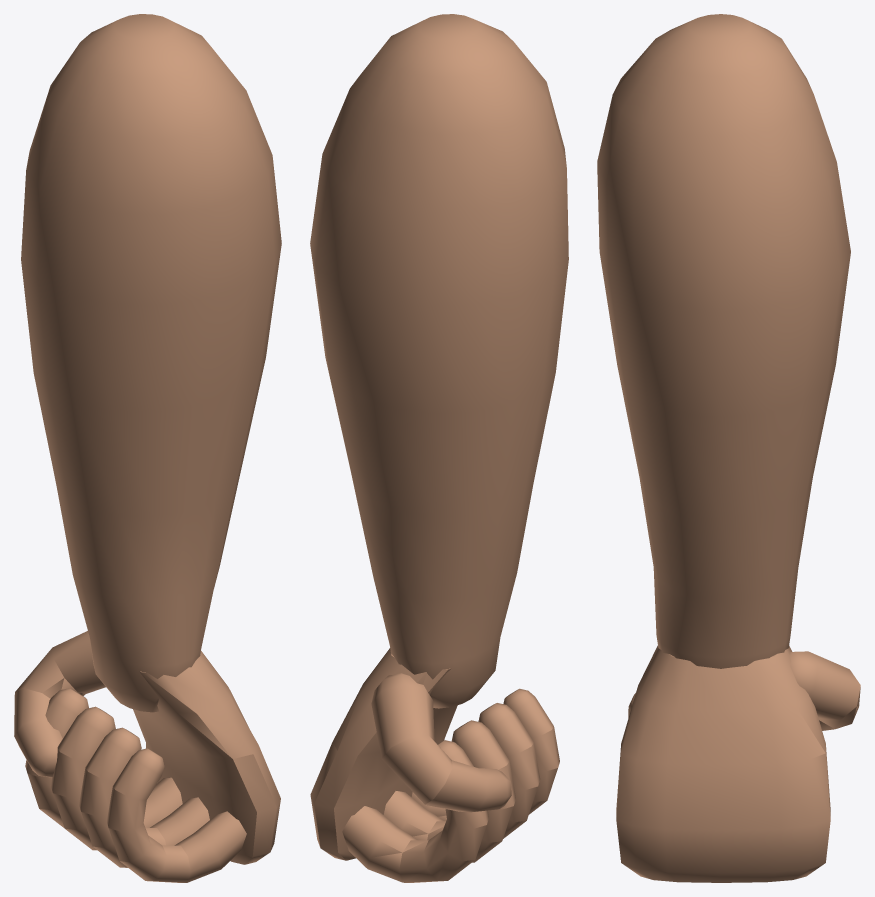
File: forearm_r.glb
3 views of the same model, side by side, from view 1: azimuth 30°, elevation 25°; view 2: azimuth 150°, elevation 25°; view 3: azimuth 270°, elevation 25° (orthographic).
Visible parts, largest first — view 1: OUT; view 2: OUT; view 3: OUT.
Part boxes in pixels (x1,y1,x2,y2): OUT: (14,14,281,882); OUT: (310,14,568,882); OUT: (597,14,860,882).
Bounding box in the file's own units: 0.1058 × 0.367 × 0.1061.
